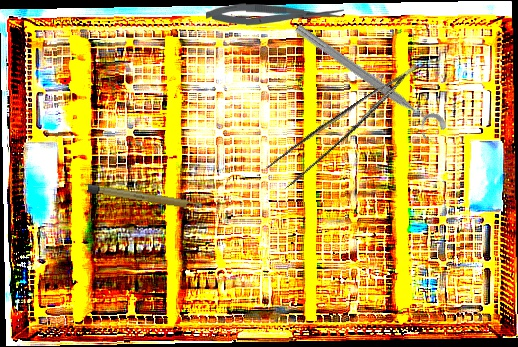Fixation Ring: (285, 19, 450, 147)
Micro Scissor: (205, 2, 345, 28)
Scalpel Handle: (87, 183, 204, 212)
Tissue Forceps: (260, 63, 434, 194)
